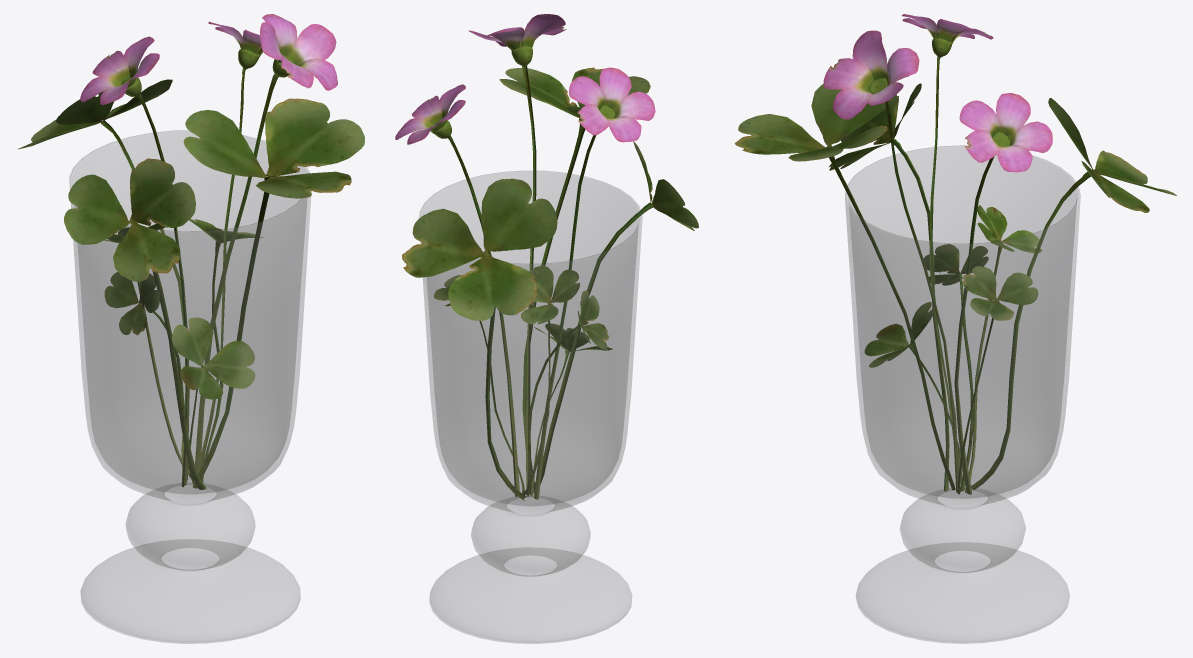
The model's file is vase.m.glb.
3 views of the same model, side by side, from view 1: azimuth 30°, elevation 25°; view 2: azimuth 150°, elevation 25°; view 3: azimuth 270°, elevation 25° (orthographic). The views are drawn at different scales.
Visible parts, largest first — view 1: GlassAlpha, Flowers1; view 2: GlassAlpha, Flowers1; view 3: GlassAlpha, Flowers1.
Part boxes in pixels (x1,y1,x2,y2): GlassAlpha: (69, 130, 311, 643); Flowers1: (18, 14, 364, 489); GlassAlpha: (419, 170, 642, 643); Flowers1: (395, 14, 698, 500); GlassAlpha: (845, 145, 1080, 643); Flowers1: (734, 14, 1176, 494).
Size of the model in its own units: 0.0973 by 0.2032 by 0.1425.
2 materials, 1 textured.
